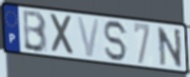7: (132, 21, 153, 66)
B: (22, 10, 49, 55)
N: (156, 26, 184, 69)
S: (102, 19, 129, 63)
V: (76, 15, 102, 59)
X: (49, 12, 76, 58)
